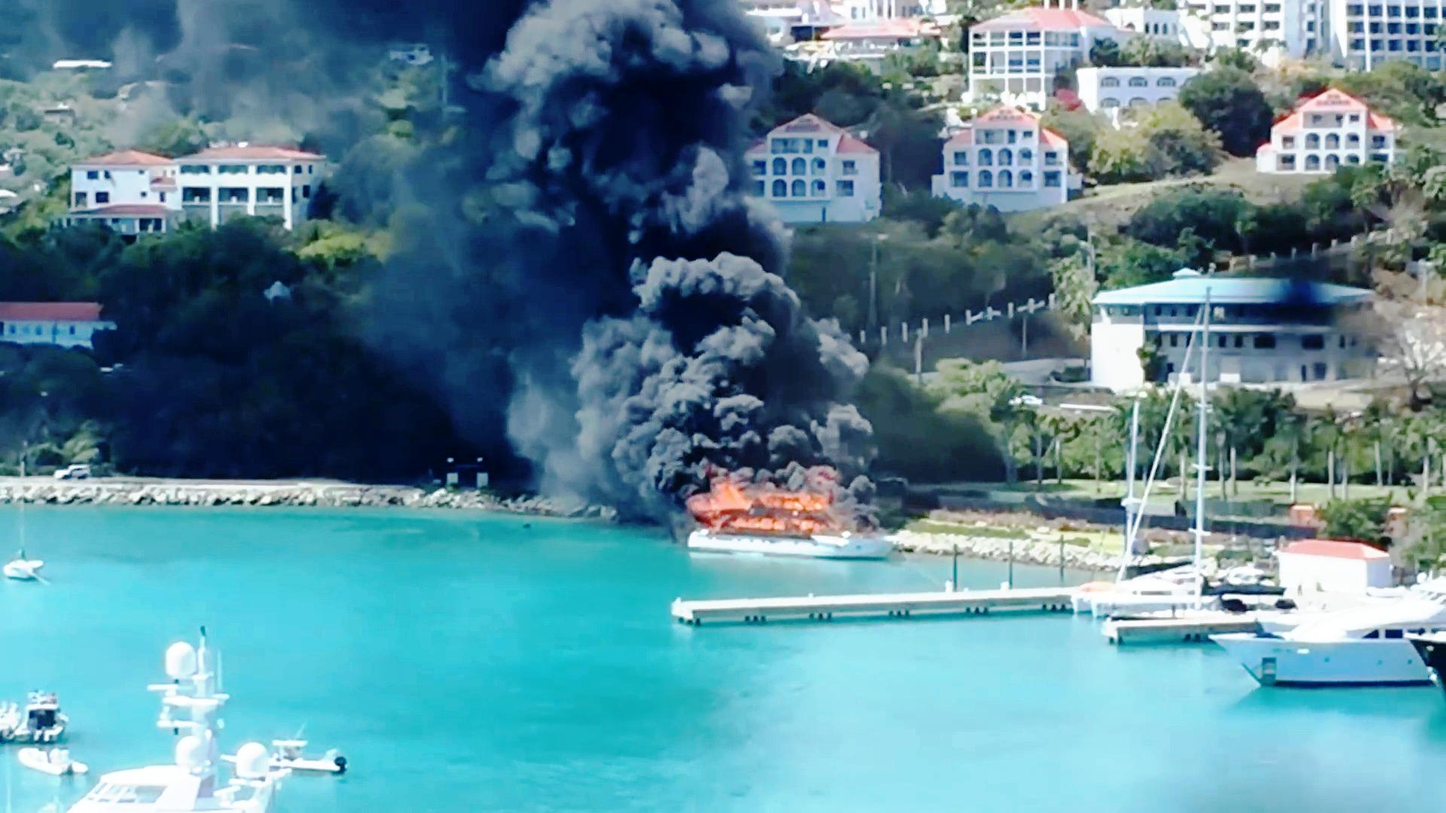fire: (688, 472, 825, 552)
smoke: (505, 91, 791, 437)
